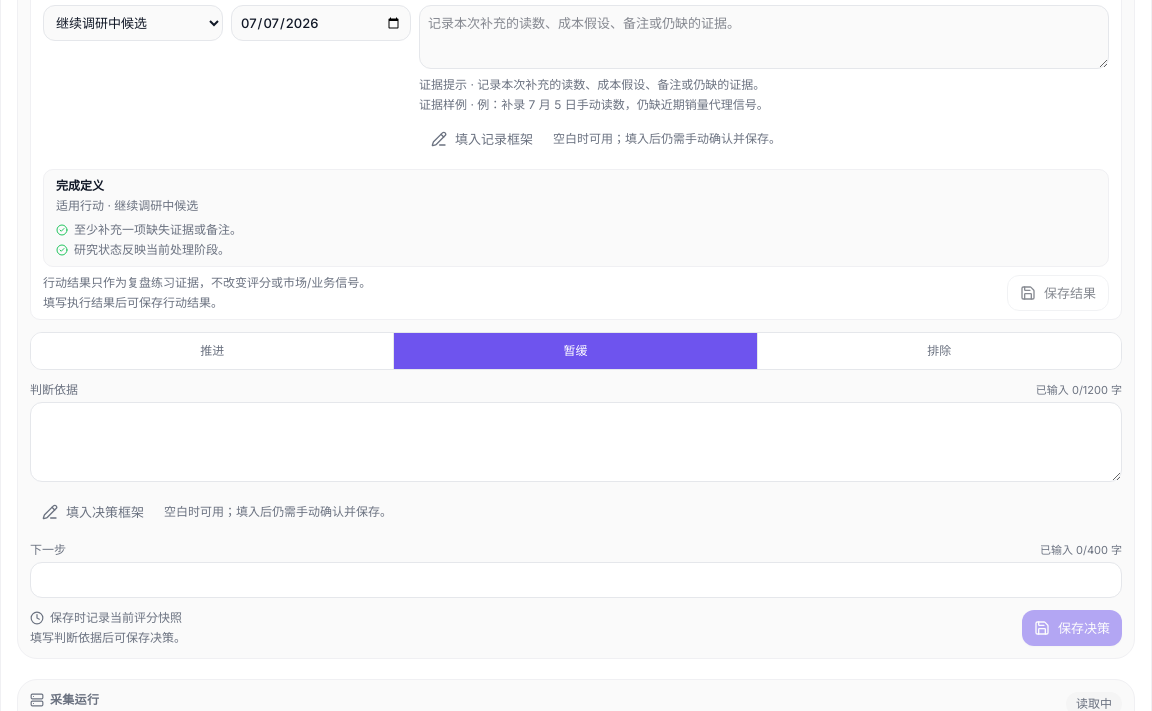
Test: Opportunities page › fills a selected decision evidence frame without saving
This screenshot has width=1152, height=711.
(page scrolled)
Click the button with aria-label "选择推进决策" at (213, 351), box [31,333,394,369]
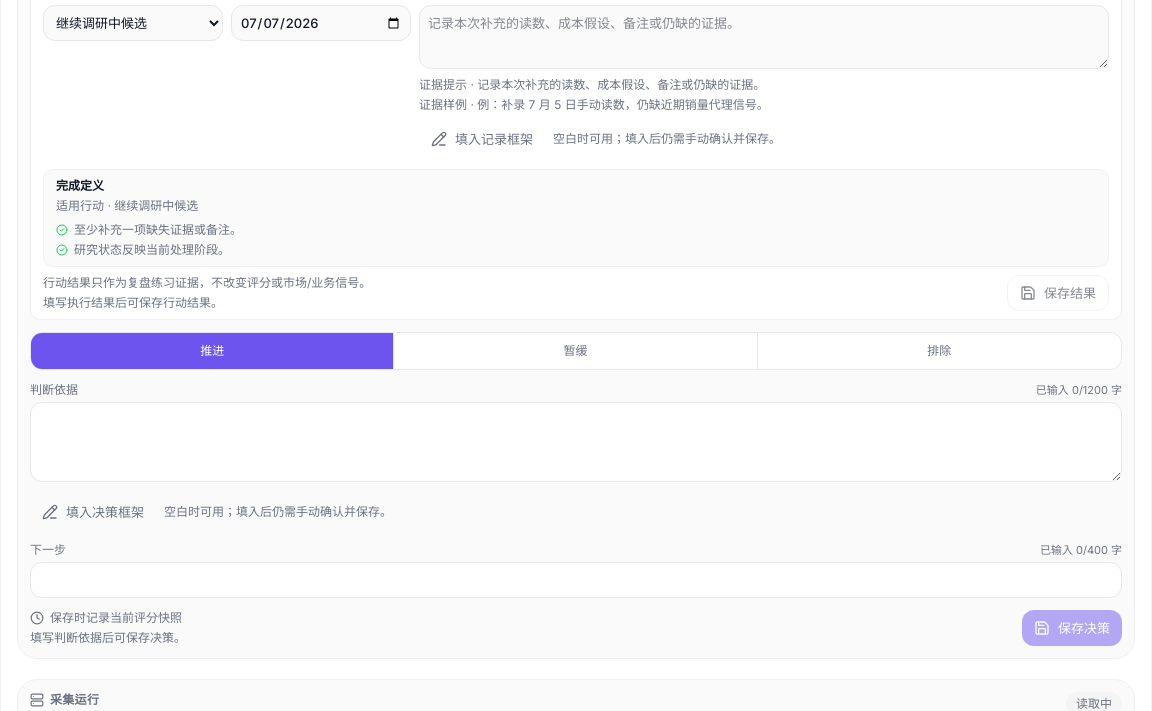
Click the button with aria-label "填入决策框架：推进" at (93, 512), box [30,494,156,530]
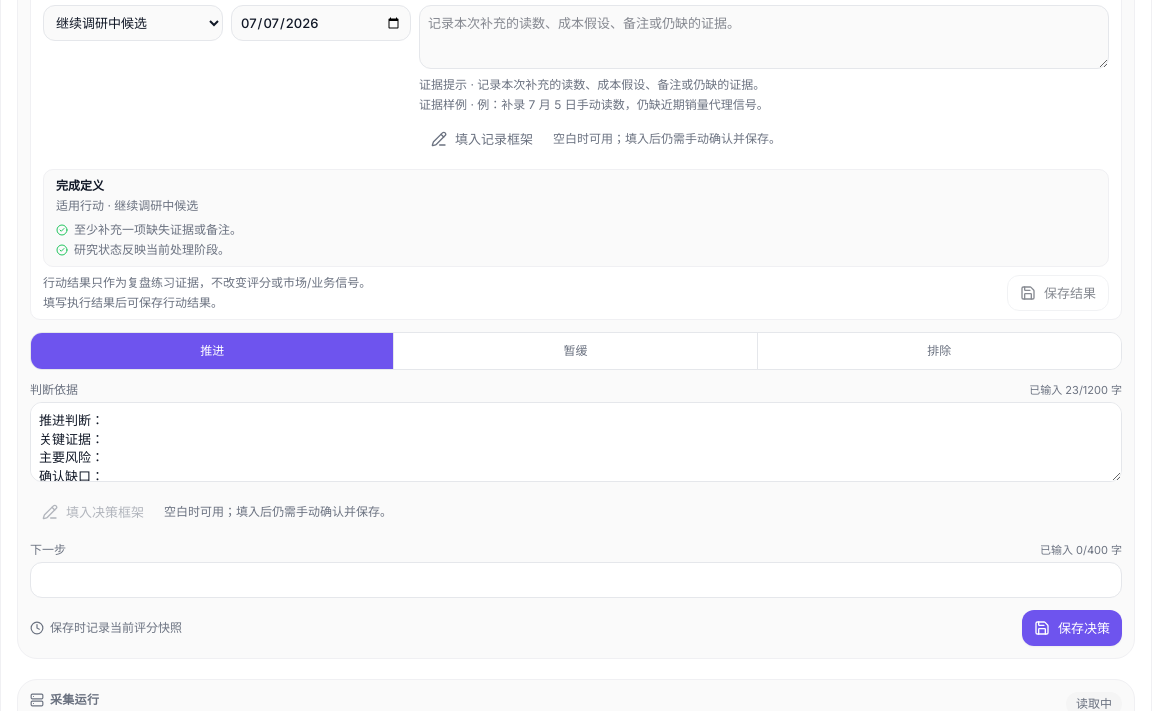
Check: the button with aria-label "填入决策框架：推进" is disabled, box [30,494,156,530]
